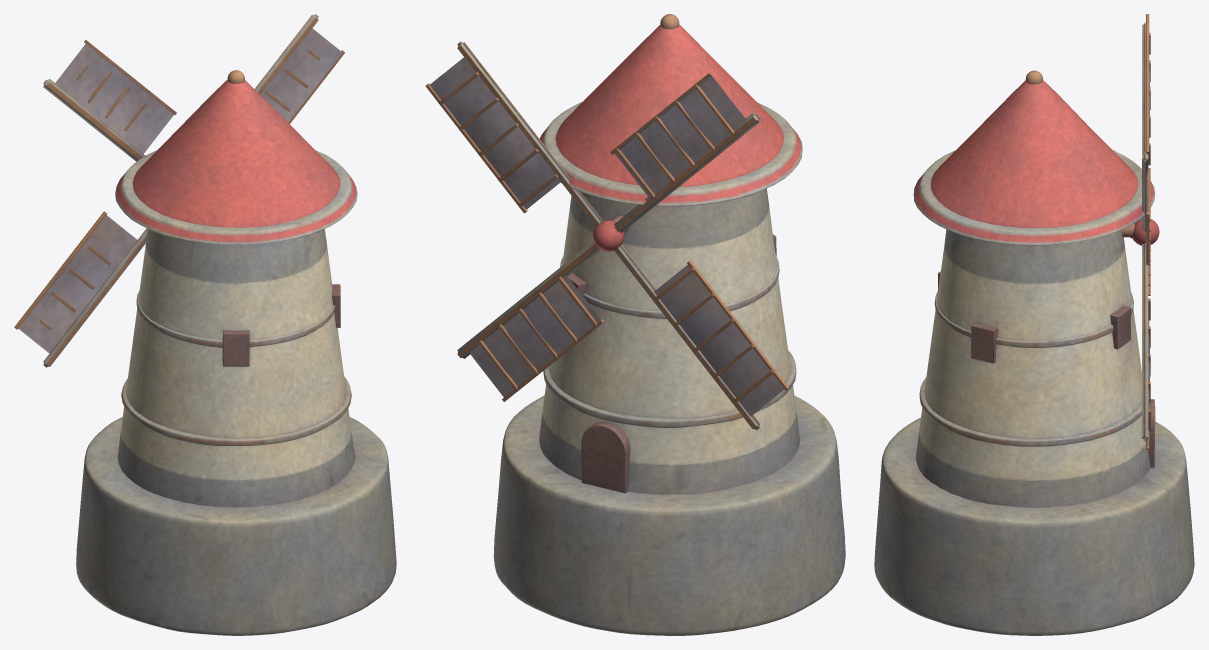
Rendered from WM_Windmill.fbx.
3 renders of one model, left to right at view 1: azimuth 30°, elevation 25°; view 2: azimuth 150°, elevation 25°; view 3: azimuth 270°, elevation 25°, orthographic. The views are drawn at different scales.
Visible parts, largest first — view 1: WM_Windmill_LOD0, WM_Windmill_Blades_Spin_LOD0; view 2: WM_Windmill_LOD0, WM_Windmill_Blades_Spin_LOD0; view 3: WM_Windmill_LOD0, WM_Windmill_Blades_Spin_LOD0.
Boxes of the visible parts, left/top/right/bottom form: WM_Windmill_LOD0: left=76, top=70, right=396, bottom=635; WM_Windmill_Blades_Spin_LOD0: left=14, top=14, right=344, bottom=367; WM_Windmill_LOD0: left=493, top=14, right=845, bottom=635; WM_Windmill_Blades_Spin_LOD0: left=425, top=41, right=788, bottom=430; WM_Windmill_LOD0: left=874, top=70, right=1194, bottom=635; WM_Windmill_Blades_Spin_LOD0: left=1130, top=14, right=1159, bottom=449.
Size of what is drawn, in the model's own units: 5.82 by 8.63 by 4.9.
